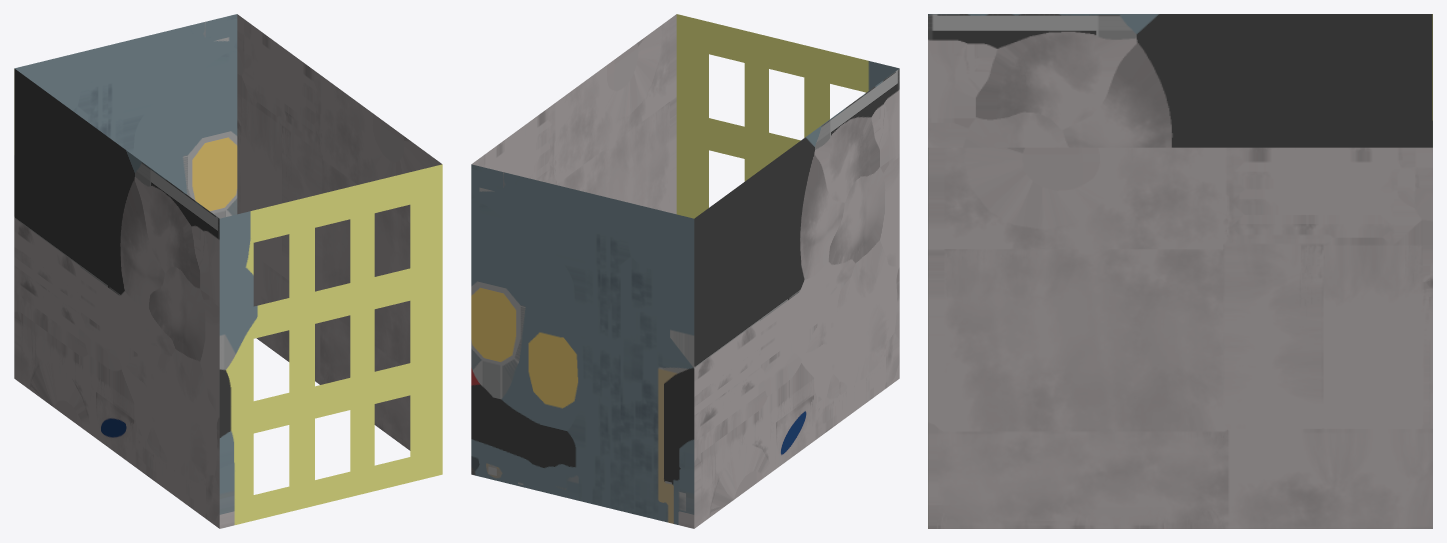
File: 3W_3F_building_body.fbx
The picture shows the model from 3 angles, left to right: view 1: azimuth 30°, elevation 25°; view 2: azimuth 150°, elevation 25°; view 3: azimuth 270°, elevation 25°; orthographic projection. The views are drawn at different scales.
Parts seen in each view (by area): view 1: Object139; view 2: Object139; view 3: Object139.
Part boxes in pixels (x1,y1,x2,y2): Object139: (14,14,442,528); Object139: (471,14,899,528); Object139: (928,14,1432,528).
Bounding box in the file's own units: 1736 × 2310 × 2771.
